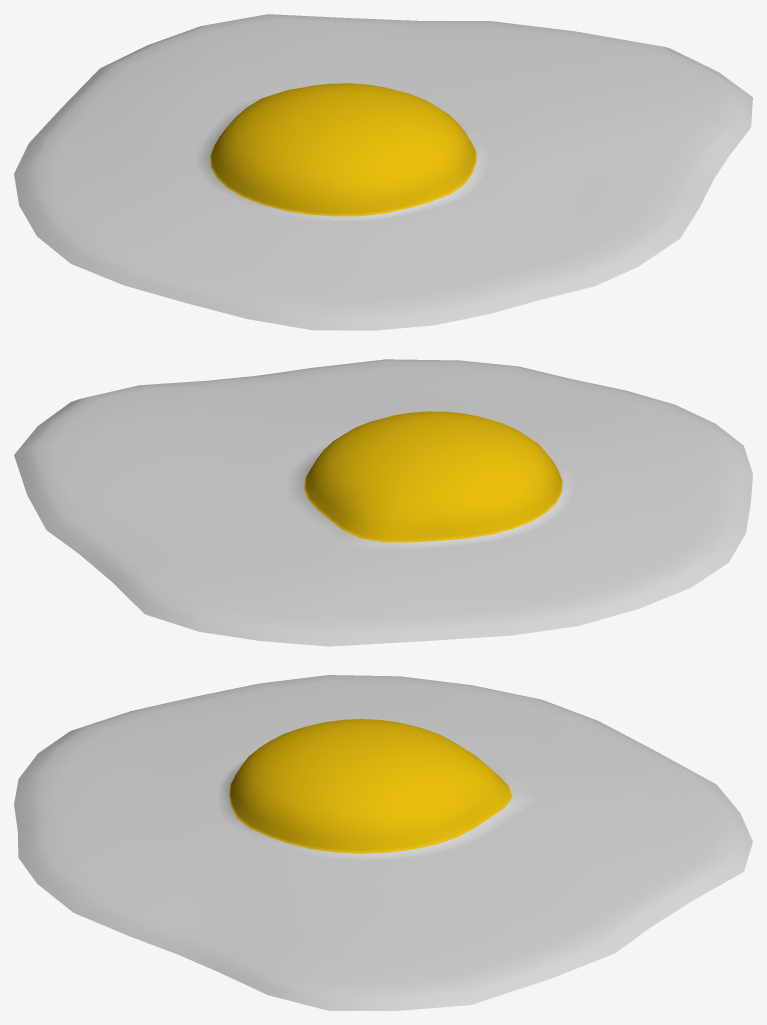
The model's file is EggOverE2.fbx.
The picture shows the model from 3 angles, top to bottom: view 1: azimuth 30°, elevation 25°; view 2: azimuth 150°, elevation 25°; view 3: azimuth 270°, elevation 25°; orthographic projection. The views are drawn at different scales.
Parts seen in each view (by area): view 1: Sphere.017; view 2: Sphere.017; view 3: Sphere.017.
Boxes of the visible parts, left/top/right/bottom form: Sphere.017: left=14, top=14, right=752, bottom=330; Sphere.017: left=14, top=359, right=752, bottom=646; Sphere.017: left=14, top=675, right=752, bottom=1010.
Size of the model in its own units: 580 by 61.24 by 541.
